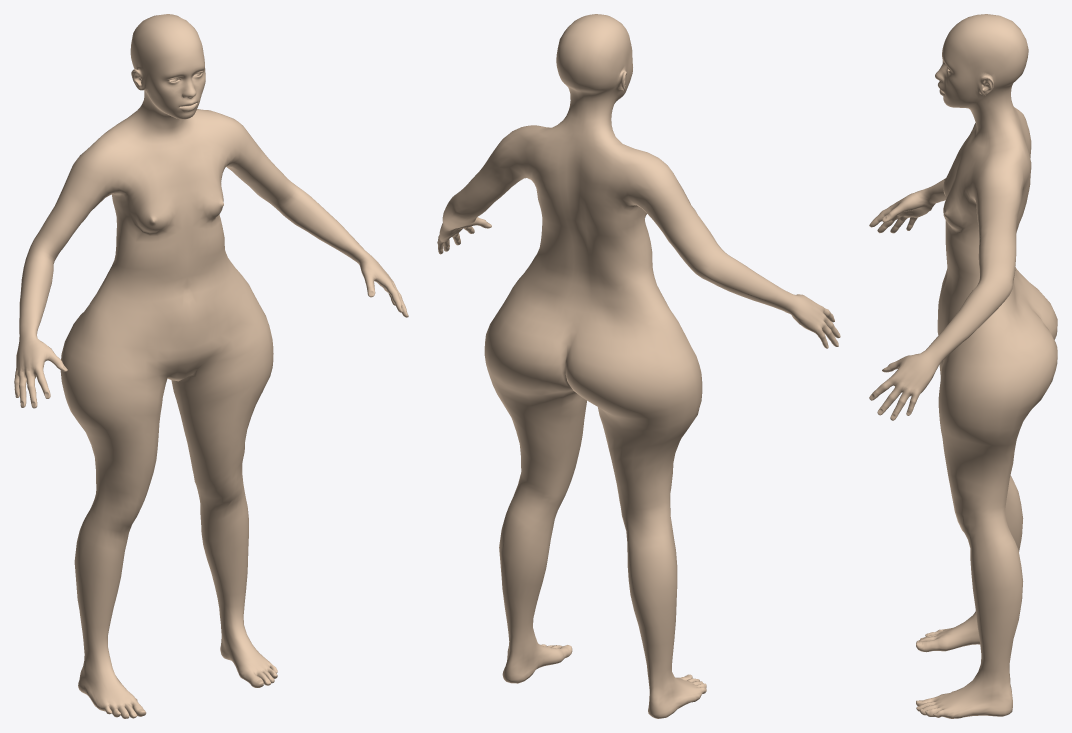
The model's file is female_Pear.glb.
3 renders of one model, left to right at view 1: azimuth 30°, elevation 25°; view 2: azimuth 150°, elevation 25°; view 3: azimuth 270°, elevation 25°, orthographic. The views are drawn at different scales.
Visible parts, largest first — view 1: female_Pear; view 2: female_Pear; view 3: female_Pear.
Part boxes in pixels (x1,y1,x2,y2): female_Pear: (14, 14, 408, 718); female_Pear: (437, 14, 840, 718); female_Pear: (869, 14, 1057, 718).
Bounding box in the file's own units: 0.9189 × 1.5 × 0.3879.
